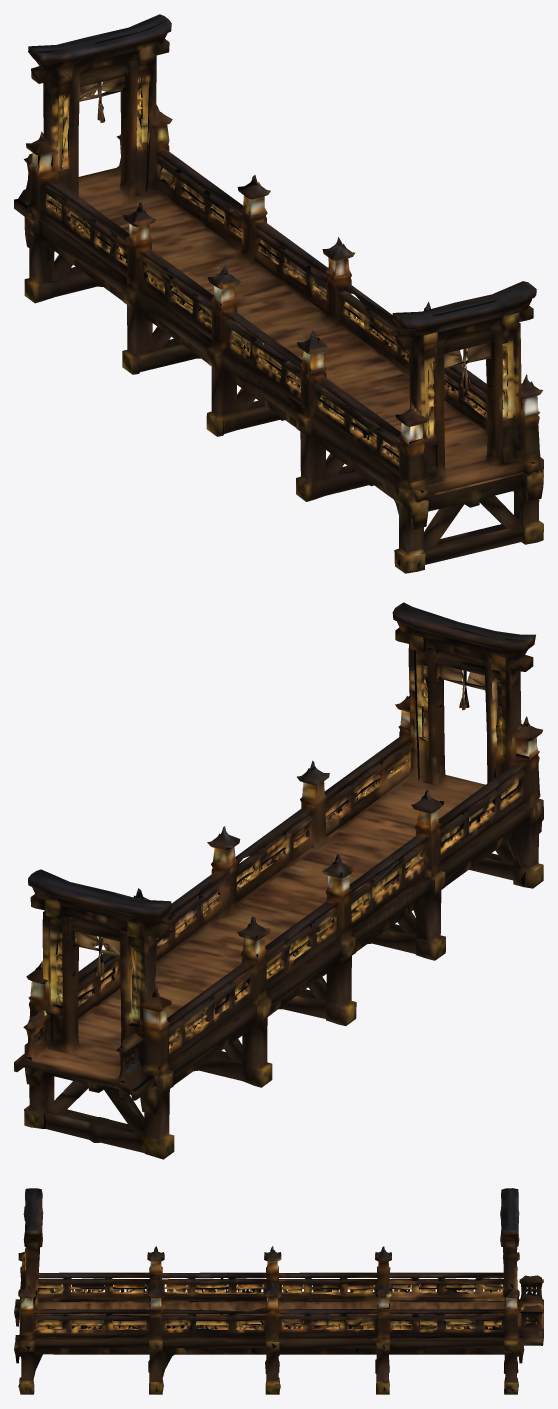
Rendered from Path_LOD2.fbx.
The picture shows the model from 3 angles, top to bottom: view 1: azimuth 30°, elevation 25°; view 2: azimuth 150°, elevation 25°; view 3: azimuth 270°, elevation 25°; orthographic projection. The views are drawn at different scales.
Visible parts, largest first — view 1: node_0.001; view 2: node_0.001; view 3: node_0.001.
Part boxes in pixels (x1,y1,x2,y2): node_0.001: (14, 14, 543, 573); node_0.001: (14, 602, 543, 1159); node_0.001: (14, 1188, 543, 1394).
Bounding box in the file's own units: 23.46 × 39.05 × 115.
Materials: 1 (1 with a texture image).
